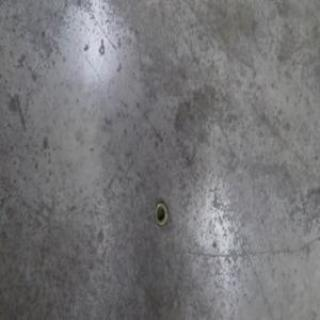Nuttrack_idkeyframe: (153, 200, 167, 229)
